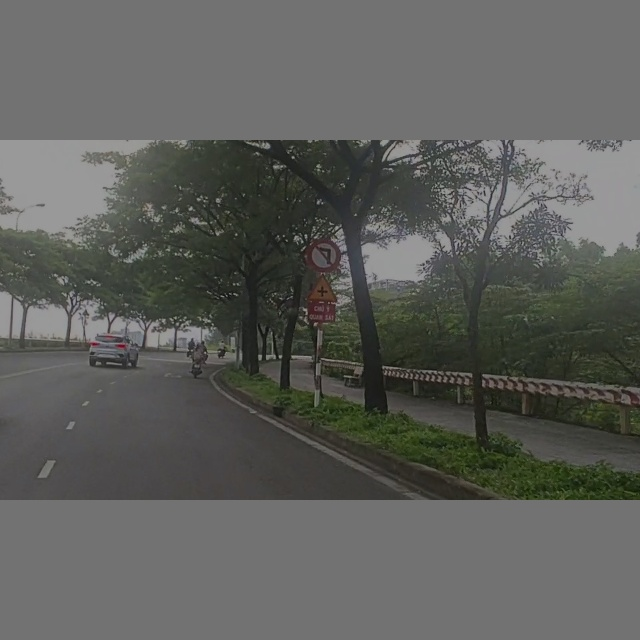P.123a: (305, 237, 343, 274)
W.205a: (305, 272, 340, 303)
